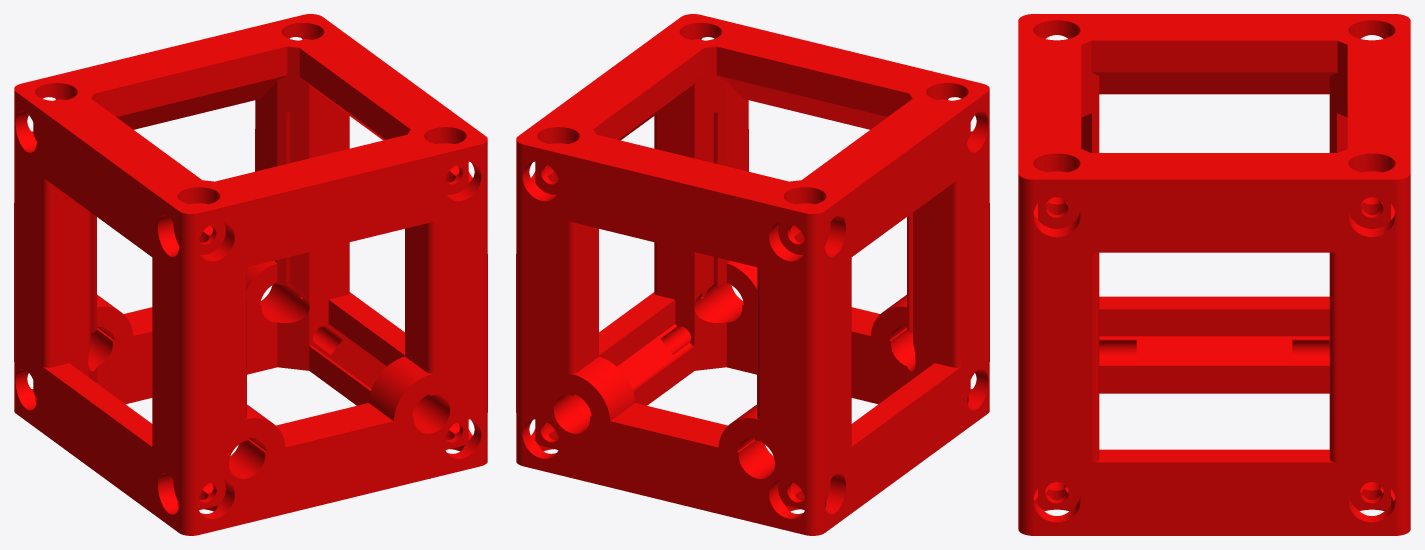
3 renders of one model, left to right at view 1: azimuth 30°, elevation 25°; view 2: azimuth 150°, elevation 25°; view 3: azimuth 270°, elevation 25°, orthographic. The views are drawn at different scales.
Parts seen in each view (by area): view 1: Base Cube 1x1; view 2: Base Cube 1x1; view 3: Base Cube 1x1.
Boxes of the visible parts, x1,y1,x2,y2 form: Base Cube 1x1: (14, 14, 487, 535); Base Cube 1x1: (516, 14, 989, 535); Base Cube 1x1: (1018, 14, 1410, 535).
Bounding box in the file's own units: 4.98 × 4.99 × 4.98.
